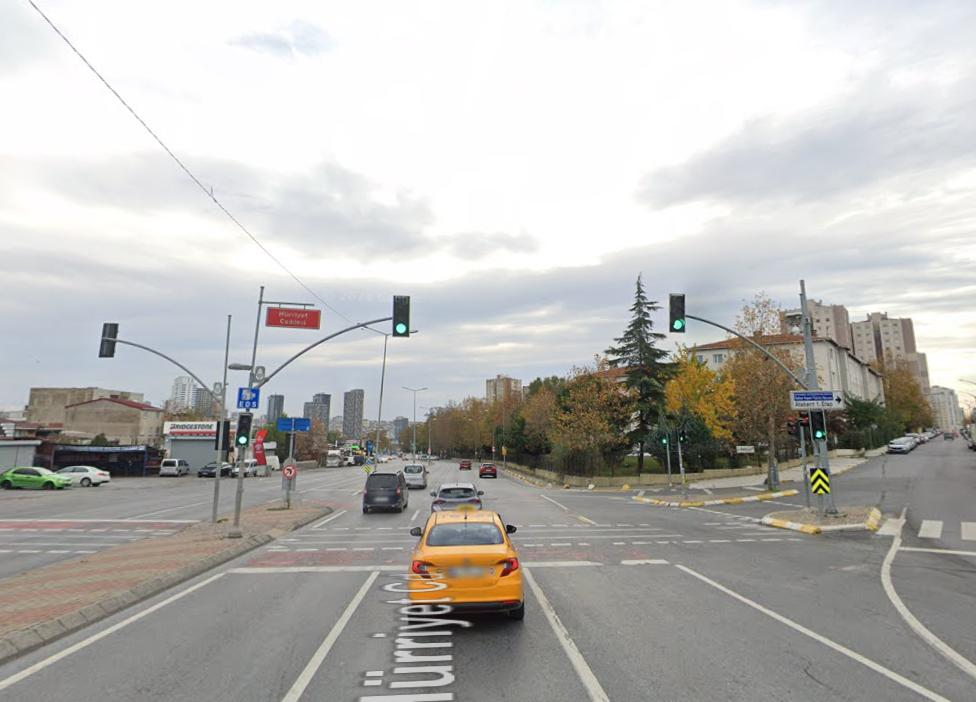greenlight: (668, 293, 686, 332), (394, 295, 407, 336), (811, 408, 827, 439), (237, 412, 251, 443)
